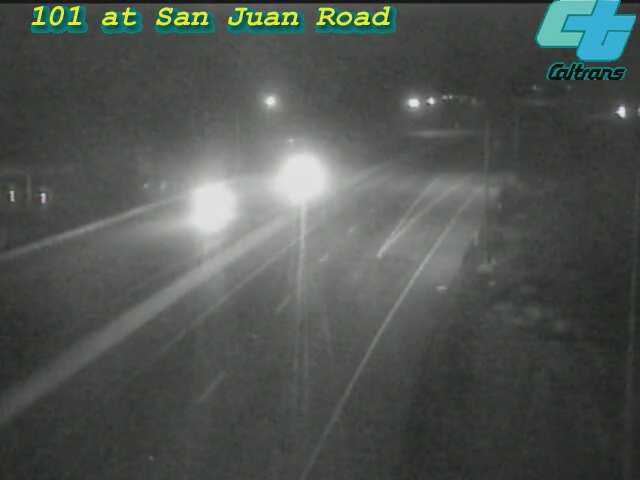vehicle: (167, 163, 247, 243), (252, 137, 332, 217), (595, 87, 640, 137)
